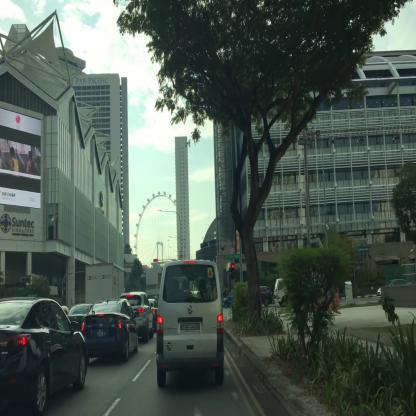red_traffic_light: (232, 263, 235, 280), (153, 258, 158, 262)
